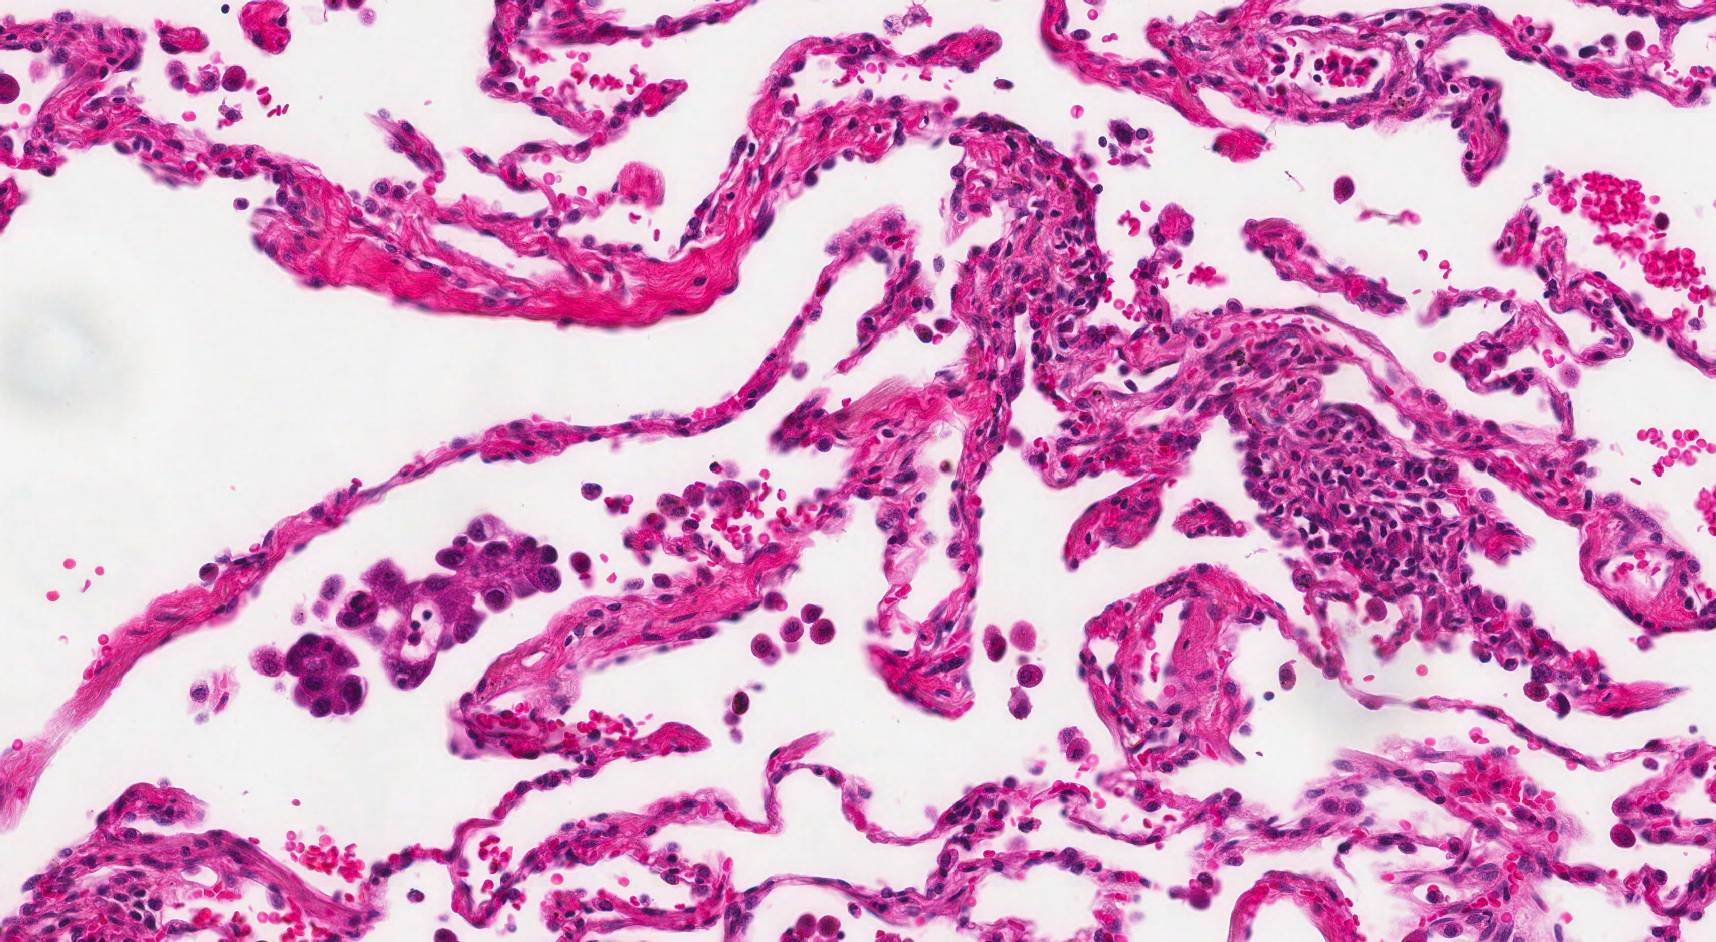stas: (335, 513, 560, 693), (284, 634, 373, 720)
